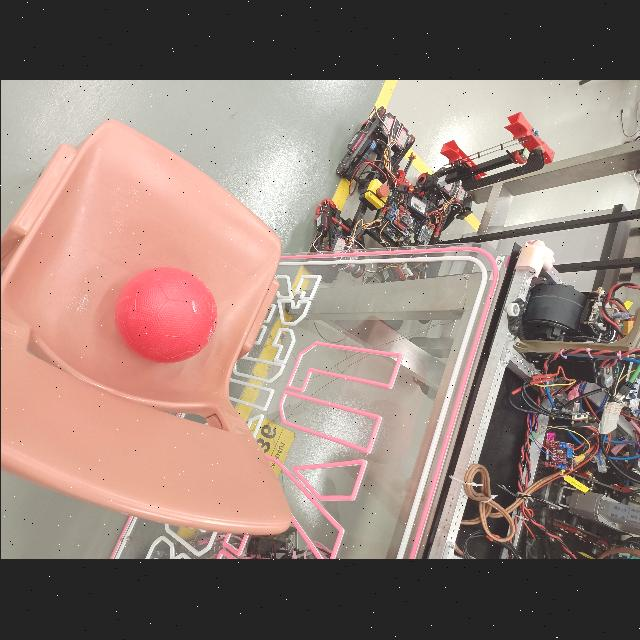R: (114, 268, 218, 364)
